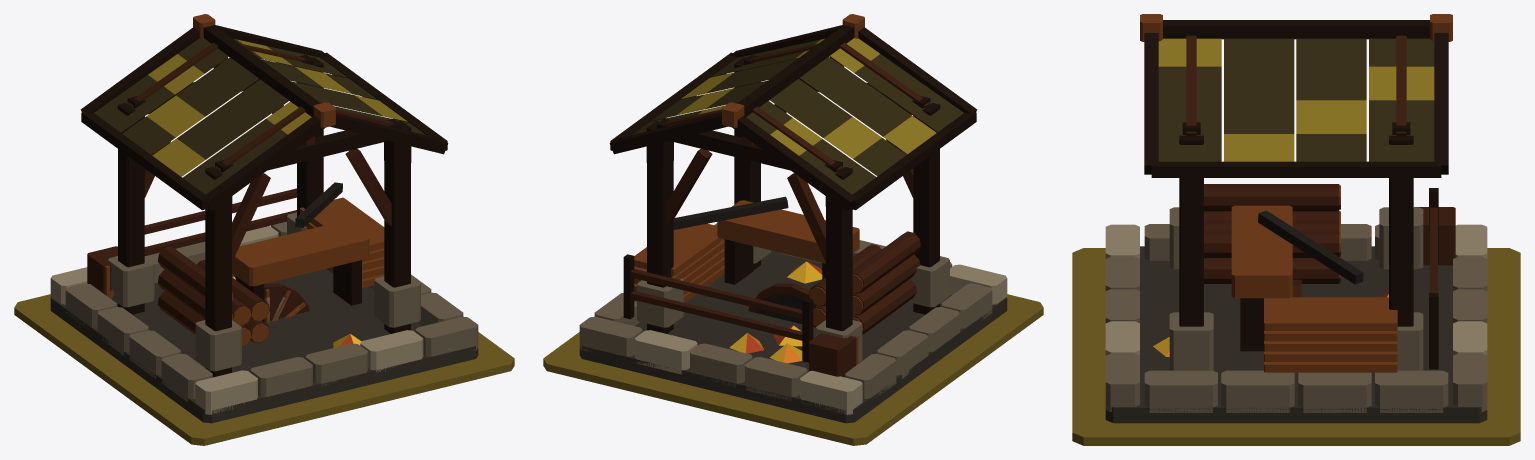
Rendered from sawmill_t4.glb.
3 renders of one model, left to right at view 1: azimuth 30°, elevation 25°; view 2: azimuth 150°, elevation 25°; view 3: azimuth 270°, elevation 25°, orthographic. The views are drawn at different scales.
Parts seen in each view (by area): view 1: MMR | sawmill | T04 Architecture.001, MMR | sawmill | Tier 04 Ground.001, MMR | sawmill | T04 Header Frame.001, MMR | sawmill | T04 Drive Wheel.001; view 2: MMR | sawmill | T04 Architecture.001, MMR | sawmill | Tier 04 Ground.001, MMR | sawmill | T04 Header Frame.001, MMR | sawmill | T04 Autumn Dressing.001, MMR | sawmill | T04 Drive Wheel.001, MMR | sawmill | T04 Saw Blade.001; view 3: MMR | sawmill | T04 Architecture.001, MMR | sawmill | Tier 04 Ground.001, MMR | sawmill | T04 Header Frame.001.
Part boxes in pixels (<box>): MMR | sawmill | T04 Architecture.001: <box>50,14,478,423</box>; MMR | sawmill | Tier 04 Ground.001: <box>14,294,514,445</box>; MMR | sawmill | T04 Header Frame.001: <box>117,42,411,210</box>; MMR | sawmill | T04 Drive Wheel.001: <box>264,283,309,322</box>; MMR | sawmill | T04 Architecture.001: <box>579,14,1007,423</box>; MMR | sawmill | Tier 04 Ground.001: <box>543,294,1043,445</box>; MMR | sawmill | T04 Header Frame.001: <box>646,42,940,210</box>; MMR | sawmill | T04 Autumn Dressing.001: <box>729,261,822,363</box>; MMR | sawmill | T04 Drive Wheel.001: <box>748,283,816,327</box>; MMR | sawmill | T04 Saw Blade.001: <box>755,294,815,327</box>; MMR | sawmill | T04 Architecture.001: <box>1105,14,1487,423</box>; MMR | sawmill | Tier 04 Ground.001: <box>1072,248,1520,445</box>; MMR | sawmill | T04 Header Frame.001: <box>1179,35,1413,182</box>.
Bounding box in the file's own units: 2.35 × 2.21 × 2.35.
1 material, 1 textured.
